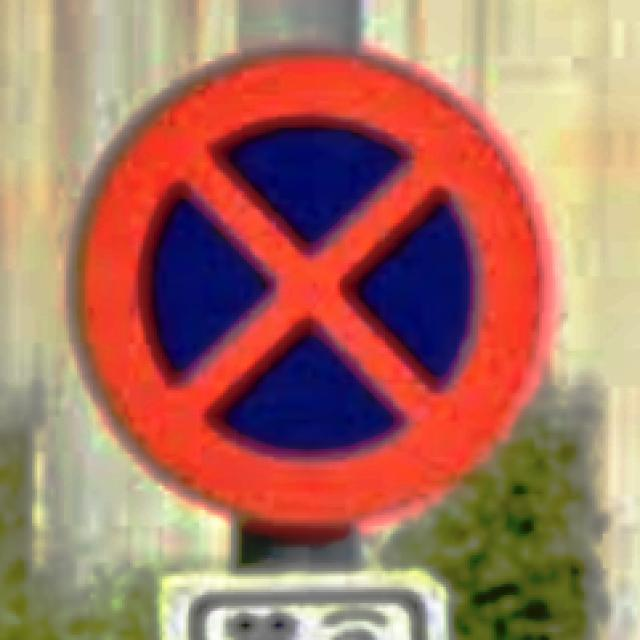nopark: (72, 48, 547, 534)
